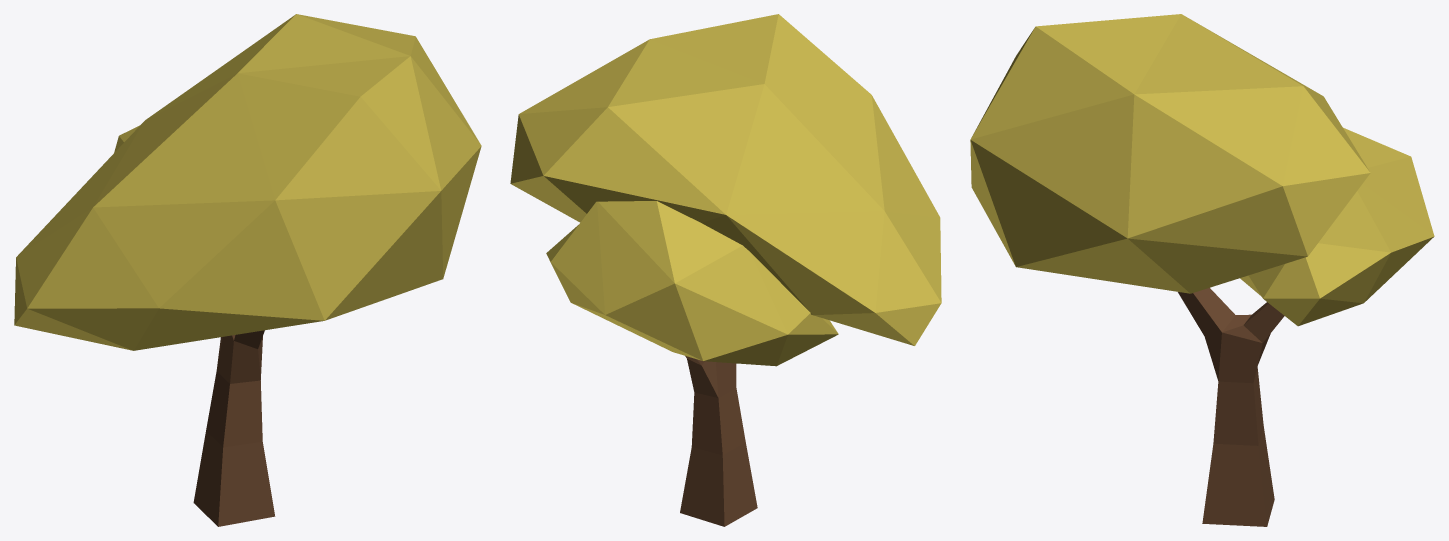
The model's file is mesh_tree_02_green.fbx.
3 views of the same model, side by side, from view 1: azimuth 30°, elevation 25°; view 2: azimuth 150°, elevation 25°; view 3: azimuth 270°, elevation 25° (orthographic). The views are drawn at different scales.
Visible parts, largest first — view 1: mesh_tree_02_green; view 2: mesh_tree_02_green; view 3: mesh_tree_02_green.
Boxes of the visible parts, bbox=[...] form: mesh_tree_02_green: bbox=[14, 14, 481, 526]; mesh_tree_02_green: bbox=[510, 14, 941, 526]; mesh_tree_02_green: bbox=[970, 14, 1434, 526].
Bounding box in the file's own units: 522 × 553 × 465.
